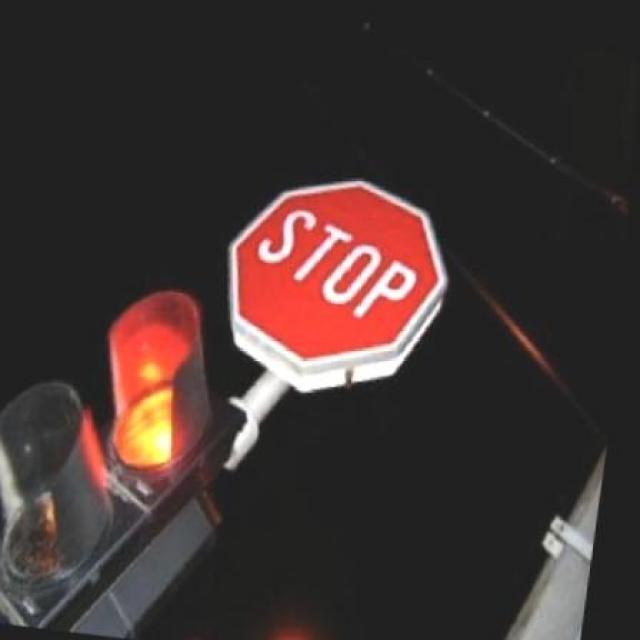stop_sign: (212, 152, 464, 395)
